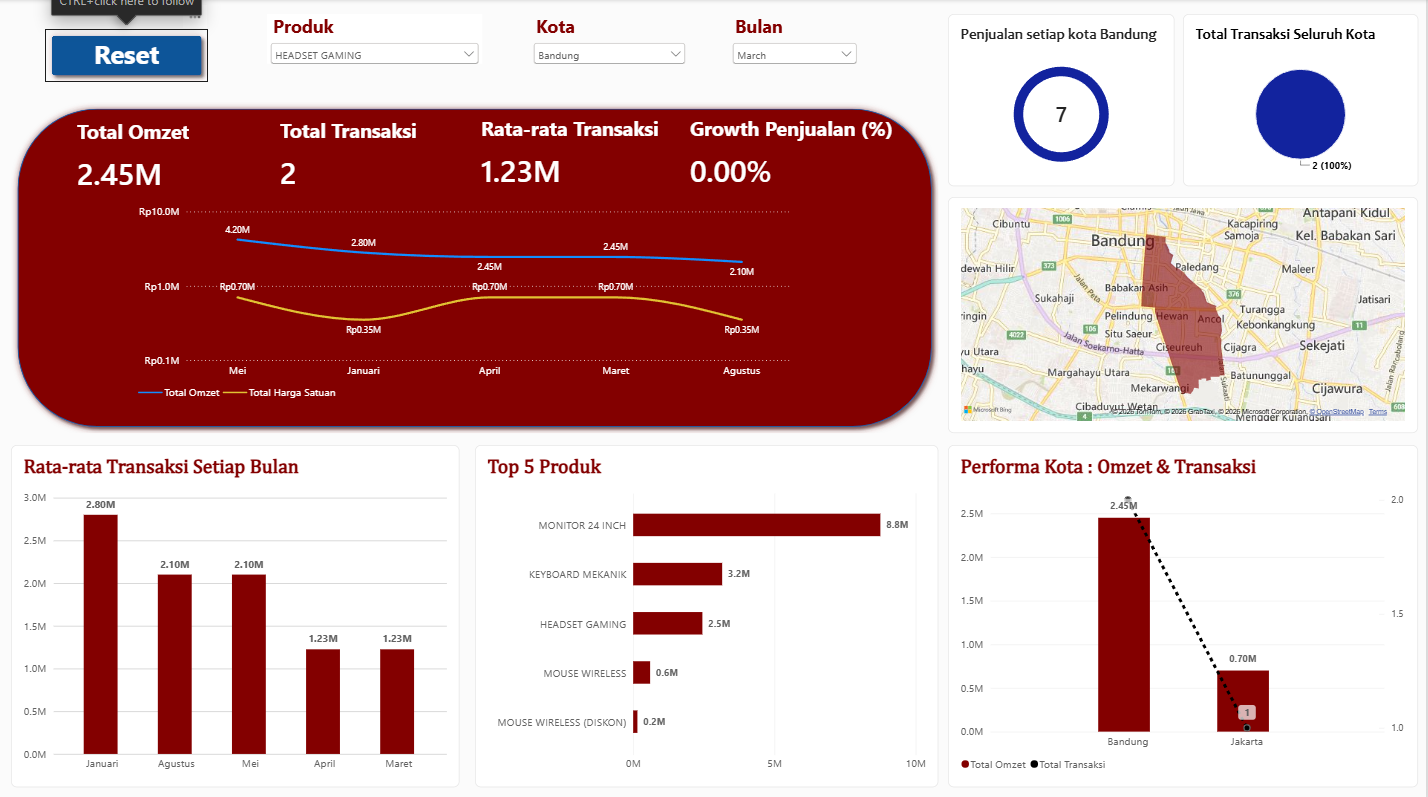

The page's visual inventory and layout, read from the dashboard file:
{"tool":"powerbi","page":{"name":"Duplicate of Duplicate of Page 1","canvas":[1920,1080],"ordinal":0},"visuals":[{"type":"shape","box":[14.6,138.6,1248.9,446.4],"z":0},{"type":"cardVisual","fields":{"Data":["public produksi.Total Omzet"]},"box":[87.5,135.7,300,150],"z":1000},{"type":"lineChart","fields":{"Category":["public produksi.Bulan"],"Y":["public produksi.Total Omzet","public produksi.Total Harga Satuan"]},"box":[170.7,261.2,911.9,299.1],"z":2000},{"type":"slicer","fields":{"Values":["public produksi.Produk"]},"box":[358.9,20.4,290.3,67.1],"z":3000},{"type":"slicer","fields":{"Values":["calendar.Month name"]},"box":[981.9,20.4,176.5,67.1],"z":4000},{"type":"cardVisual","fields":{"Data":["public produksi.Total Transaksi"]},"box":[360.4,134.2,300,150],"z":5000},{"type":"filledMap","fields":{"Category":["public produksi.Kota_Toko"]},"box":[1276.6,267,633.2,318.1],"z":6000},{"type":"slicer","fields":{"Values":["public produksi.Kota_Toko"]},"box":[713.4,20.4,214.5,67.1],"z":7000},{"type":"clusteredColumnChart","title":"Rata-rata Transaksi Setiap Bulan","fields":{"Category":["public produksi.Bulan"],"Y":["public produksi.Rata-rata Transaksi"]},"box":[14.6,601.1,604,461],"z":8000},{"type":"cardVisual","fields":{"Data":["public produksi.Rata-rata Transaksi"]},"box":[631.7,131.3,300,150],"z":9000},{"type":"cardVisual","fields":{"Data":["public produksi.Growth Penjualan (%)"]},"box":[913.3,131.3,319.5,150.3],"z":10000},{"type":"donutChart","fields":{"Category":["public produksi.Kota_Toko"],"Y":["public produksi.Total Quantity"]},"box":[1276.6,20.4,304.9,232],"z":11000},{"type":"clusteredBarChart","title":"Top 5 Produk","fields":{"Category":["public produksi.Produk"],"Y":["public produksi.Total Omzet"]},"box":[639,601.1,624.4,461],"z":12000},{"type":"lineClusteredColumnComboChart","title":"Performa Kota : Omzet & Transaksi","fields":{"Category":["public produksi.Kota_Toko"],"Y":["public produksi.Total Omzet"],"Y2":["public produksi.Total Transaksi"]},"box":[1276.6,601.1,633,461],"z":13000},{"type":"pieChart","title":"Total Transaksi Seluruh Kota","fields":{"Category":["public produksi.Kota_Toko"],"Y":["public produksi.Total Transaksi"]},"box":[1593.2,20.4,316.6,232],"z":14000},{"type":"actionButton","box":[60,40,220,71.4],"z":15000}]}

Visuals, with their boxes on the page's 1920x1080 design canvas (x1, y1, x2, y2). These are canvas units, not pixel positions in the 1428x797 screenshot, which may show the page scaled, cropped or inside an application window:
shape: (left=15, top=139, right=1264, bottom=585)
cardVisual - public produksi.Total Omzet: (left=88, top=136, right=388, bottom=286)
lineChart - public produksi.Bulan x public produksi.Total Omzet: (left=171, top=261, right=1083, bottom=560)
slicer - public produksi.Produk: (left=359, top=20, right=649, bottom=88)
slicer - calendar.Month name: (left=982, top=20, right=1158, bottom=88)
cardVisual - public produksi.Total Transaksi: (left=360, top=134, right=660, bottom=284)
filledMap - public produksi.Kota_Toko: (left=1277, top=267, right=1910, bottom=585)
slicer - public produksi.Kota_Toko: (left=713, top=20, right=928, bottom=88)
"Rata-rata Transaksi Setiap Bulan" clusteredColumnChart: (left=15, top=601, right=619, bottom=1062)
cardVisual - public produksi.Rata-rata Transaksi: (left=632, top=131, right=932, bottom=281)
cardVisual - public produksi.Growth Penjualan (%): (left=913, top=131, right=1233, bottom=282)
donutChart - public produksi.Kota_Toko x public produksi.Total Quantity: (left=1277, top=20, right=1582, bottom=252)
"Top 5 Produk" clusteredBarChart: (left=639, top=601, right=1263, bottom=1062)
"Performa Kota : Omzet & Transaksi" lineClusteredColumnComboChart: (left=1277, top=601, right=1910, bottom=1062)
"Total Transaksi Seluruh Kota" pieChart: (left=1593, top=20, right=1910, bottom=252)
actionButton: (left=60, top=40, right=280, bottom=111)
